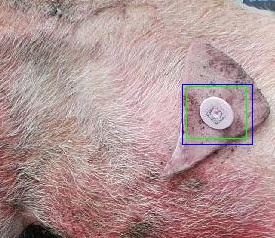text: (186, 86, 246, 138)
